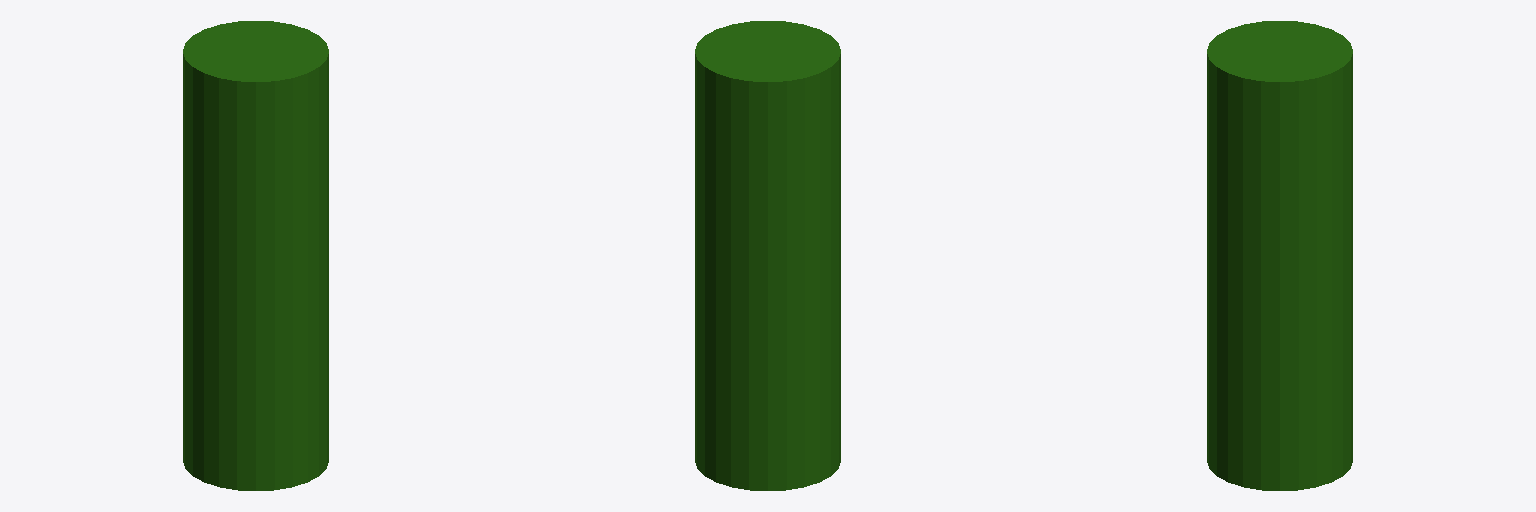
The robot description file, URDF, robot "Small_Short_Circle_Green":
<?xml version="1.0"?>
<robot name="Small_Short_Circle_Green">
    <link name="Small_Short_Circle_Green">
        <visual>
            <geometry>
                <mesh filename="../mesh/factory_insertion/Small_Short_Circle_Green.obj" scale="0.001 0.001 0.001"/>
            </geometry>
            <material name="Green">
              <color rgba="0.21 0.46 0.11 0.0"/>
            </material>
        </visual>
        <collision>
            <geometry>
                <mesh filename="../mesh/factory_insertion/Small_Short_Circle_Green.obj" scale="0.001 0.001 0.001"/>
            </geometry>
            <sdf resolution="512"/>
        </collision>
    </link>
</robot>

--- Facts derived from the render (not from the file) ---
Views: 3 orthographic renders of the robot side by side, from view 1: azimuth 30°, elevation 25°; view 2: azimuth 150°, elevation 25°; view 3: azimuth 270°, elevation 25°.
Robot: Small_Short_Circle_Green — 1 links, 0 joints (none); root link Small_Short_Circle_Green; default pose: every joint at zero.
Visible links, largest first — view 1: Small_Short_Circle_Green; view 2: Small_Short_Circle_Green; view 3: Small_Short_Circle_Green.
Link boxes in pixels (<box>): Small_Short_Circle_Green: <box>183,21,328,490</box>; Small_Short_Circle_Green: <box>695,21,840,490</box>; Small_Short_Circle_Green: <box>1207,21,1352,490</box>.
Bounding box of the posed robot: 0.0324 × 0.0324 × 0.1 m (x, y, z).
1 mesh visuals loaded from 1 distinct referenced files (1 OBJ).
